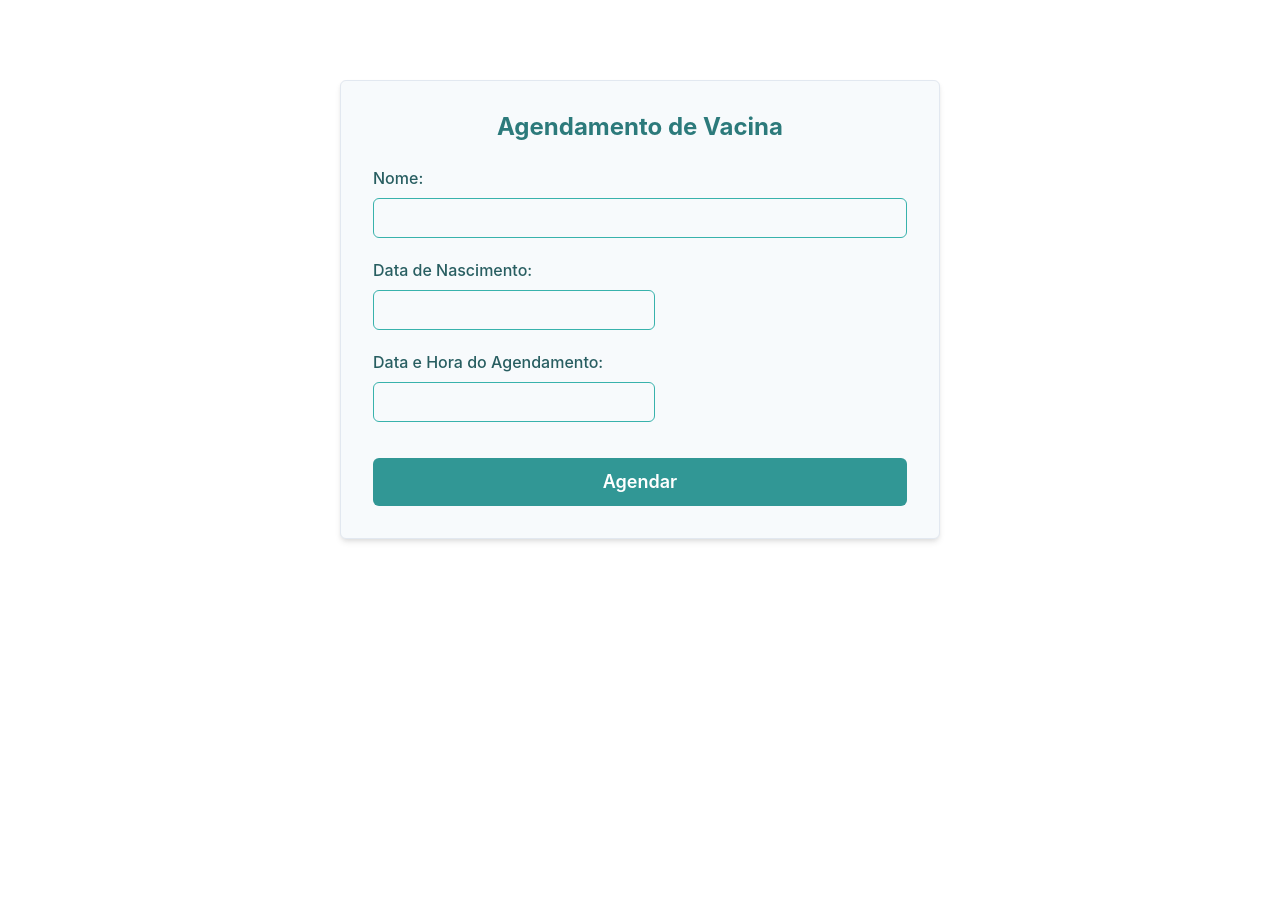
Scenario: <AppointmentForm/> › should handle submission error
Type "Leandro Junior" into the field labelled "Nome:" at x=640, y=218, box [373,198,907,238]
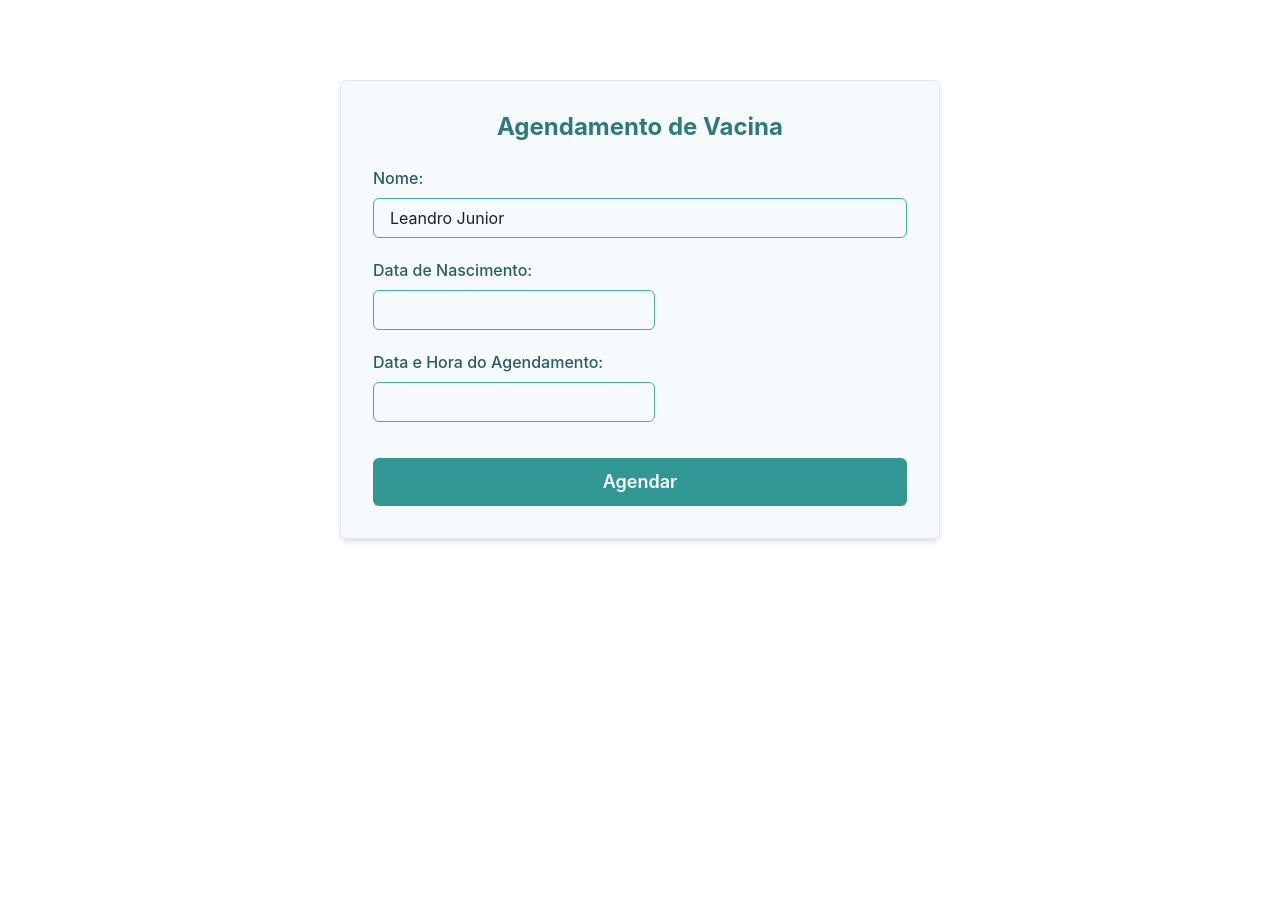
Type "2000-02-02" into the field labelled "Data de Nascimento:" at x=514, y=310, box [373,290,655,330]
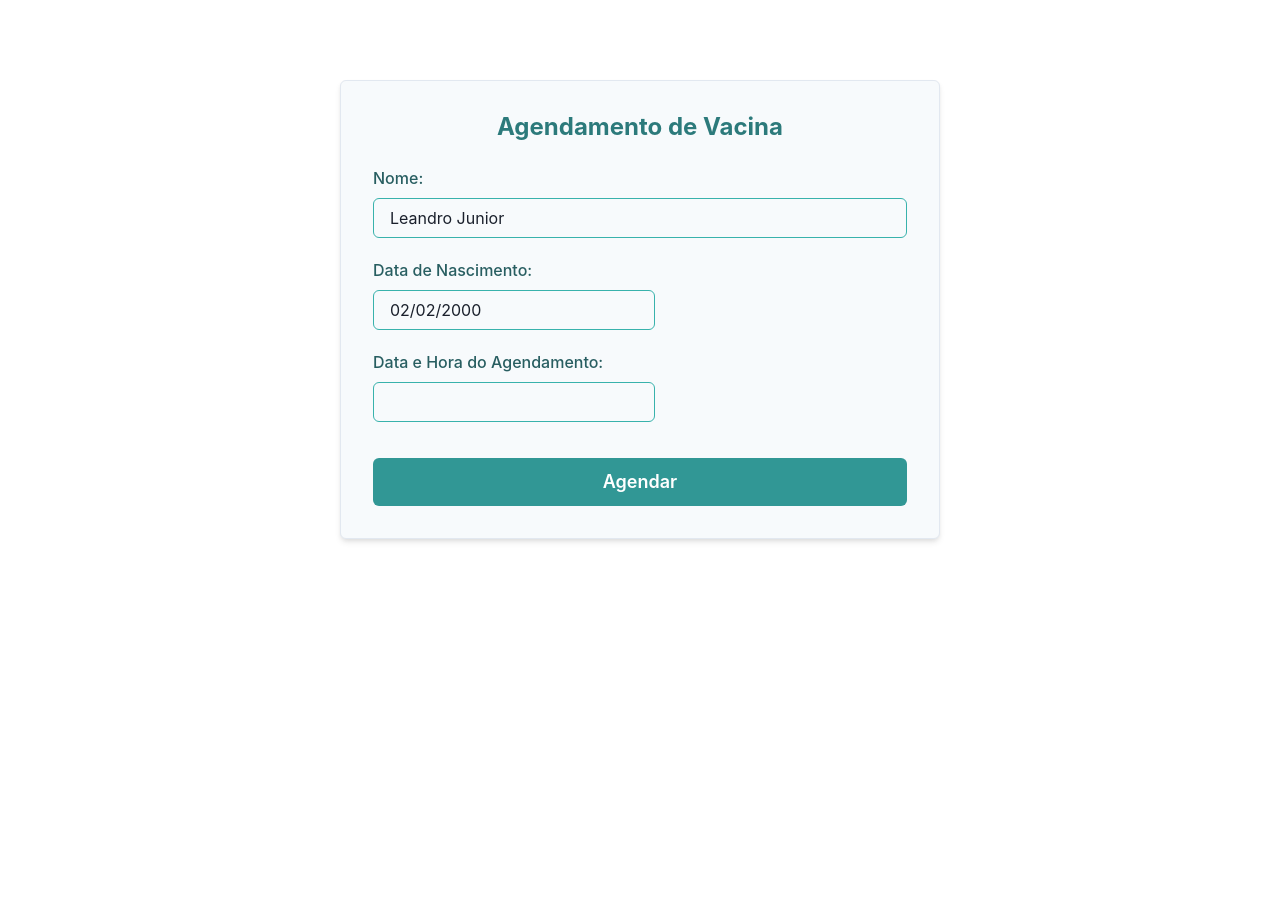
Type "2025-07-10T16:00:00.000Z" into the field labelled "Data e Hora do Agendamento:" at x=514, y=402, box [373,382,655,422]
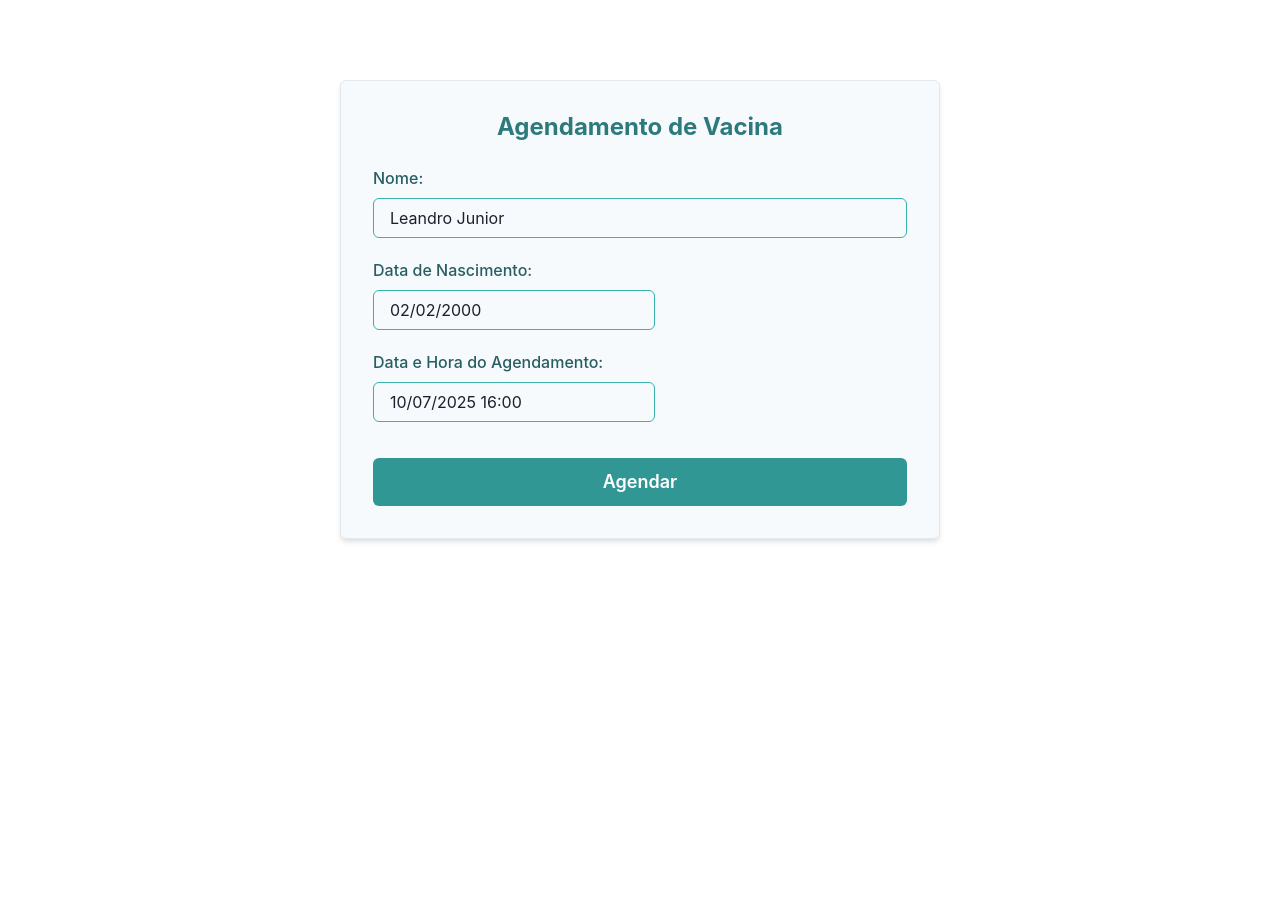
Click the button "Agendar" at x=640, y=482, box [373,458,907,506]
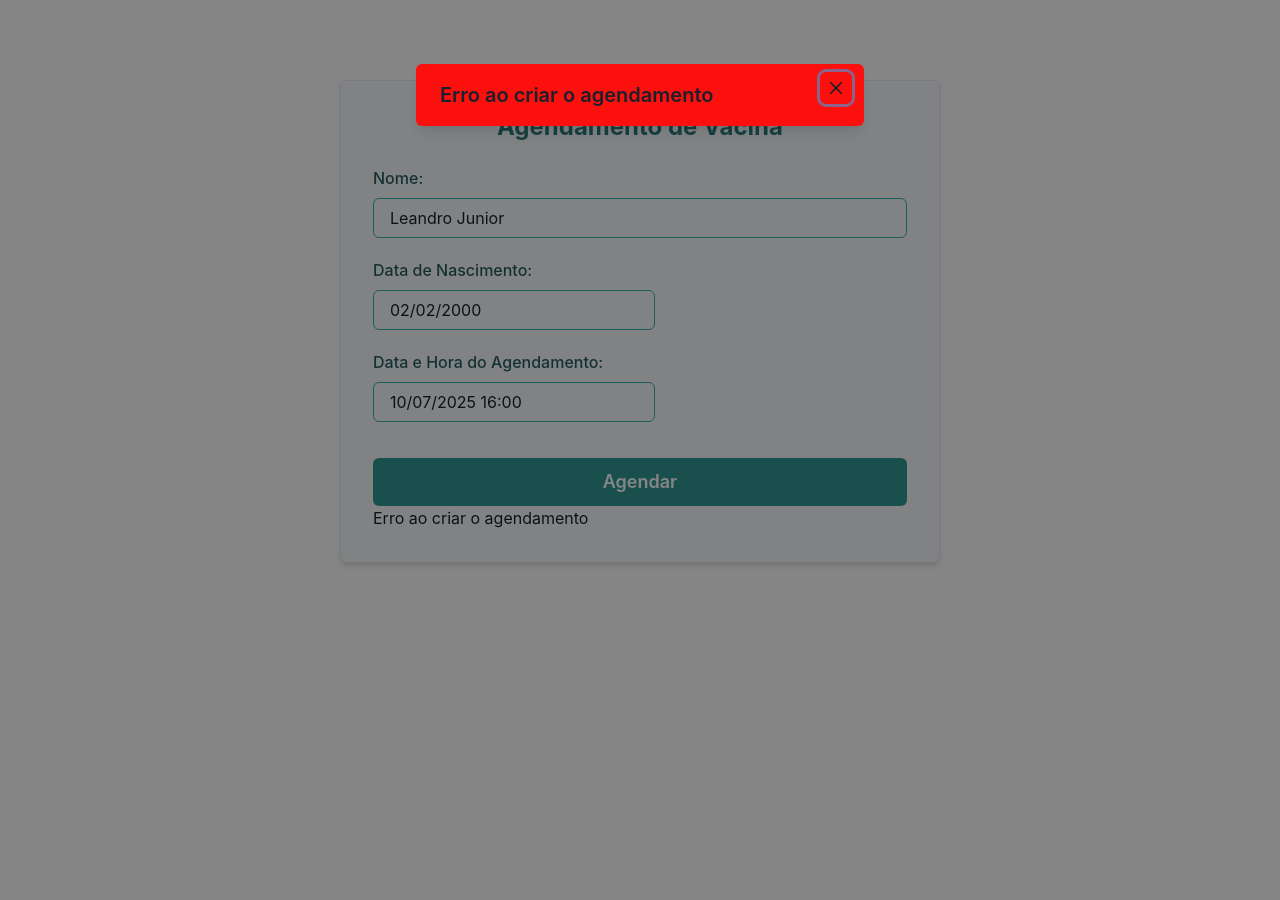
Expected: the text with test id "error-message" reads "Erro ao criar o agendamento", [373,508,588,528]
